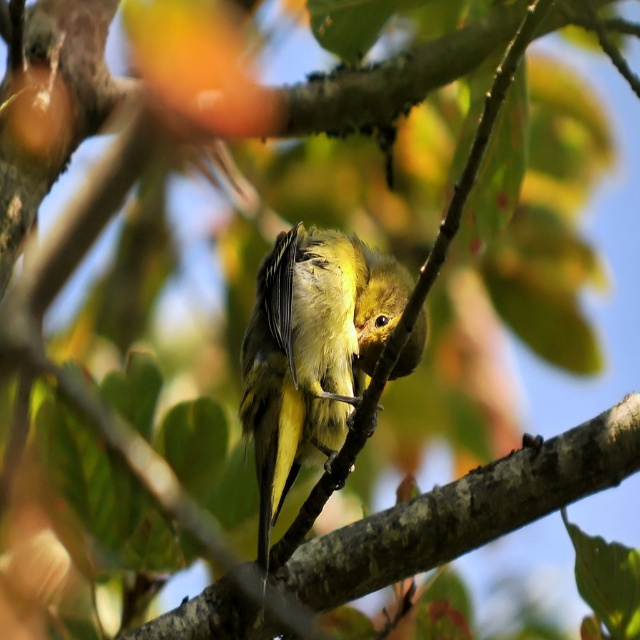Canary: (237, 220, 428, 583)
